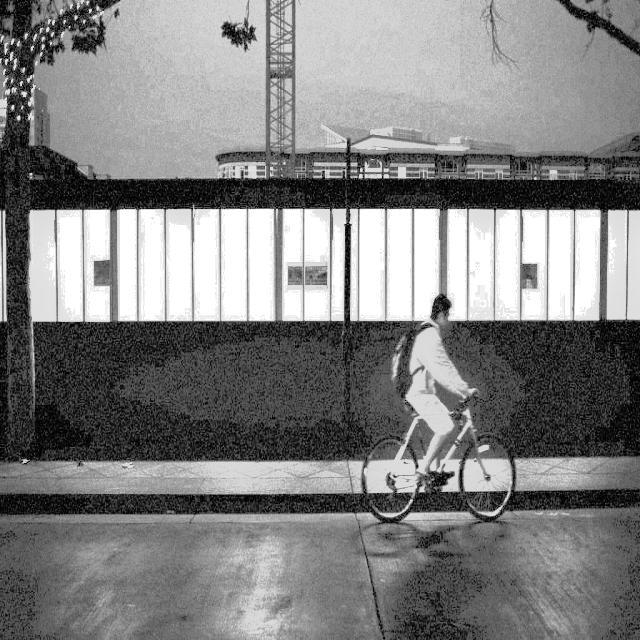Bicycle: (349, 375, 526, 552)
